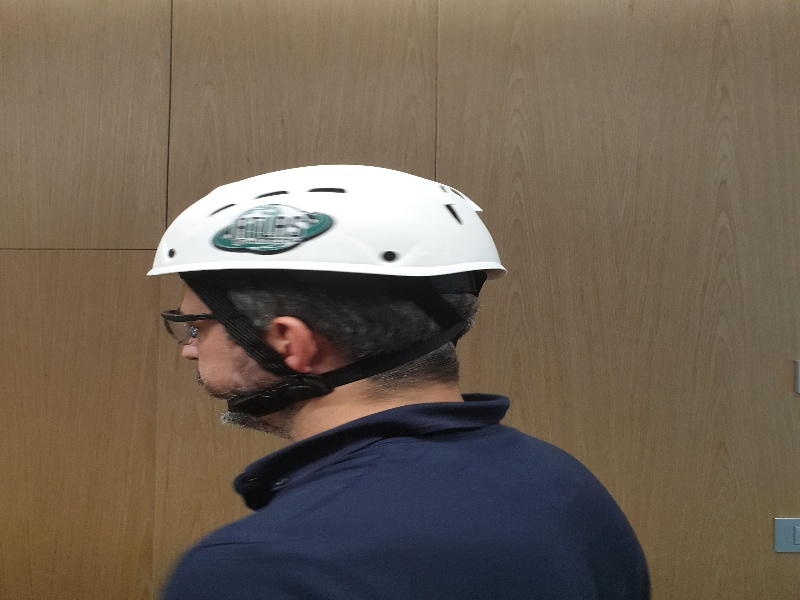Baret: (144, 165, 507, 290)
